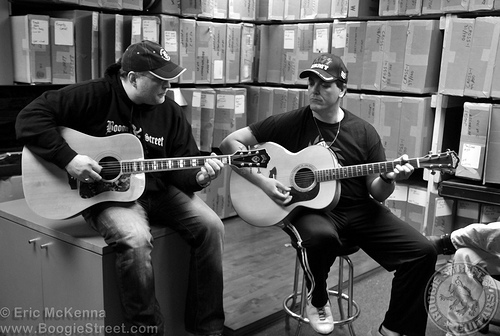guitar: (17, 124, 272, 221), (227, 139, 461, 230)
